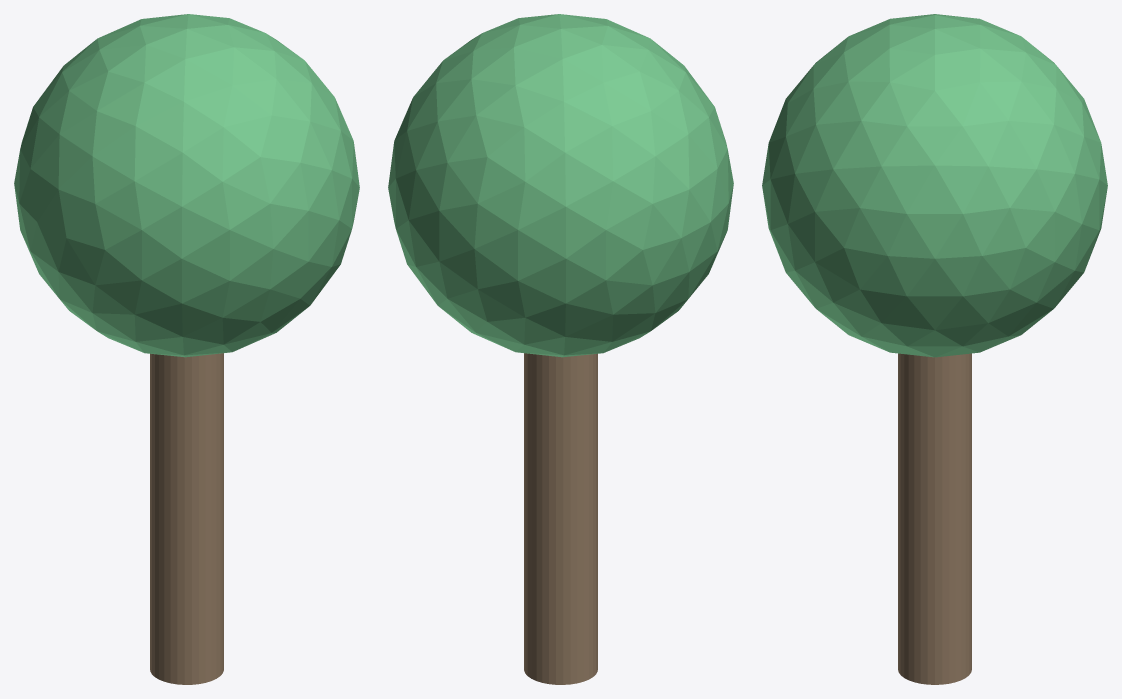
File: tree.glb
3 views of the same model, side by side, from view 1: azimuth 30°, elevation 25°; view 2: azimuth 150°, elevation 25°; view 3: azimuth 270°, elevation 25° (orthographic).
Parts seen in each view (by area): view 1: canopy, trunk; view 2: canopy, trunk; view 3: canopy, trunk.
Boxes of the visible parts, box(x1,y1,x2,y2) form: canopy: box(14, 14, 359, 357); trunk: box(150, 353, 223, 684); canopy: box(388, 14, 733, 357); trunk: box(524, 353, 597, 684); canopy: box(762, 14, 1107, 357); trunk: box(898, 353, 971, 684).
Size of the model in its own units: 1.4 by 2.86 by 1.4.
